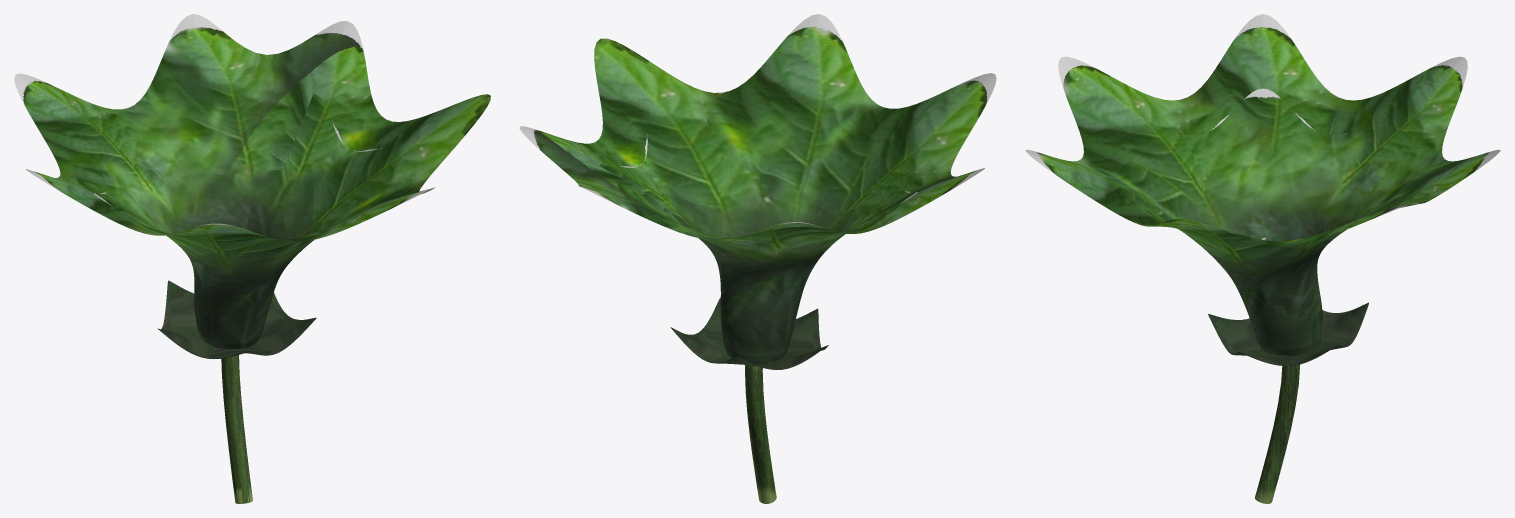
File: hibyscus_stem.glb
3 renders of one model, left to right at view 1: azimuth 30°, elevation 25°; view 2: azimuth 150°, elevation 25°; view 3: azimuth 270°, elevation 25°, orthographic.
Parts seen in each view (by area): view 1: Speal.001_lambert1_0; view 2: Speal.001_lambert1_0; view 3: Speal.001_lambert1_0.
Part boxes in pixels (<box>): Speal.001_lambert1_0: <box>14,14,490,503</box>; Speal.001_lambert1_0: <box>519,14,996,503</box>; Speal.001_lambert1_0: <box>1025,14,1500,503</box>.
Size of the model in its own units: 2.5 by 2.17 by 2.44.
3 materials, 3 textured.
